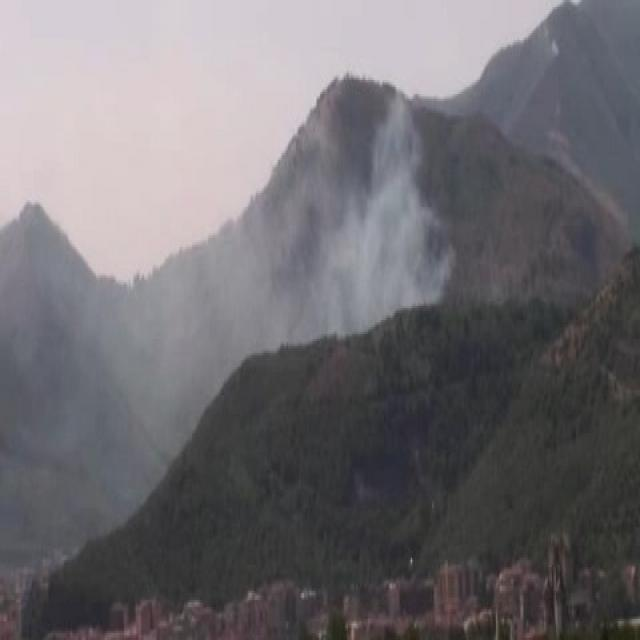smoke: (286, 115, 440, 336), (33, 287, 203, 451)
